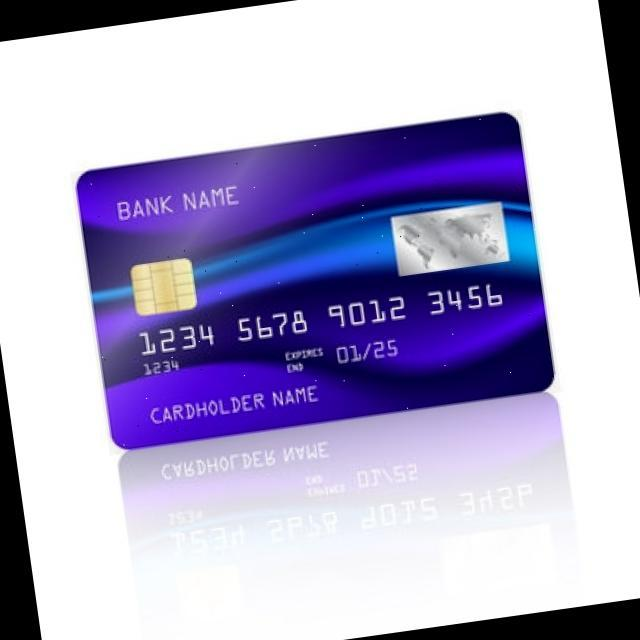payment_card: (73, 110, 556, 450)
